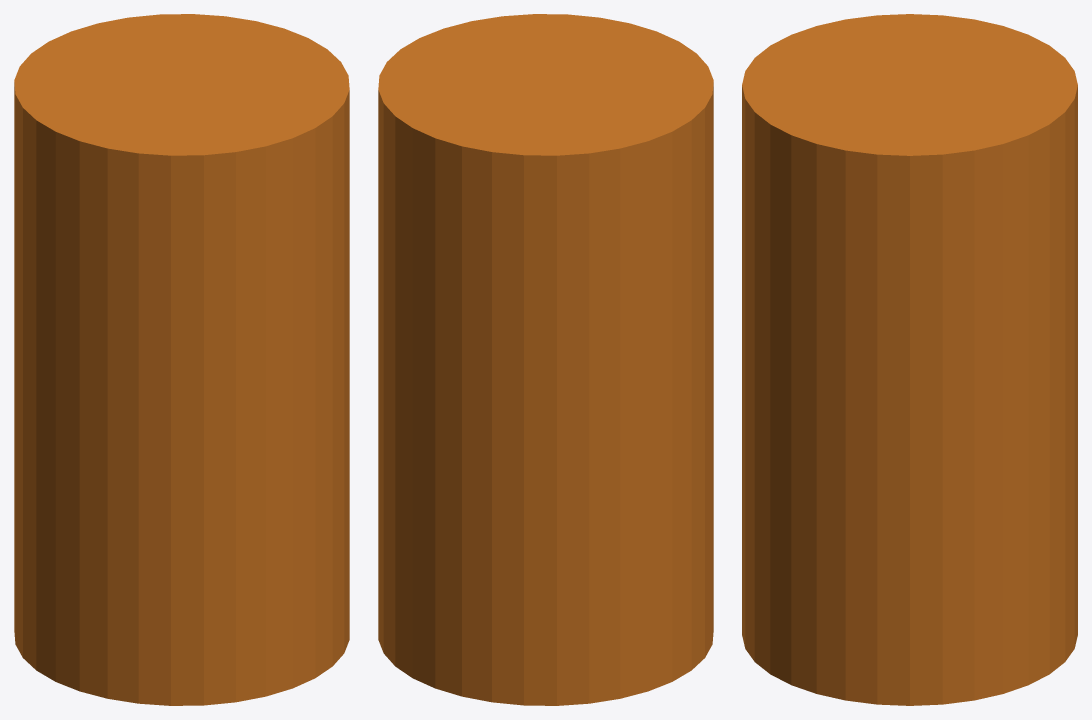
The model's file is heroi.dae.
3 views of the same model, side by side, from view 1: azimuth 30°, elevation 25°; view 2: azimuth 150°, elevation 25°; view 3: azimuth 270°, elevation 25° (orthographic).
Visible parts, largest first — view 1: Cylinder; view 2: Cylinder; view 3: Cylinder.
Boxes of the visible parts, <box> form: Cylinder: <box>14,14,349,705</box>; Cylinder: <box>378,14,713,705</box>; Cylinder: <box>742,14,1077,705</box>.
Bounding box in the file's own units: 2 × 2 × 3.61.
